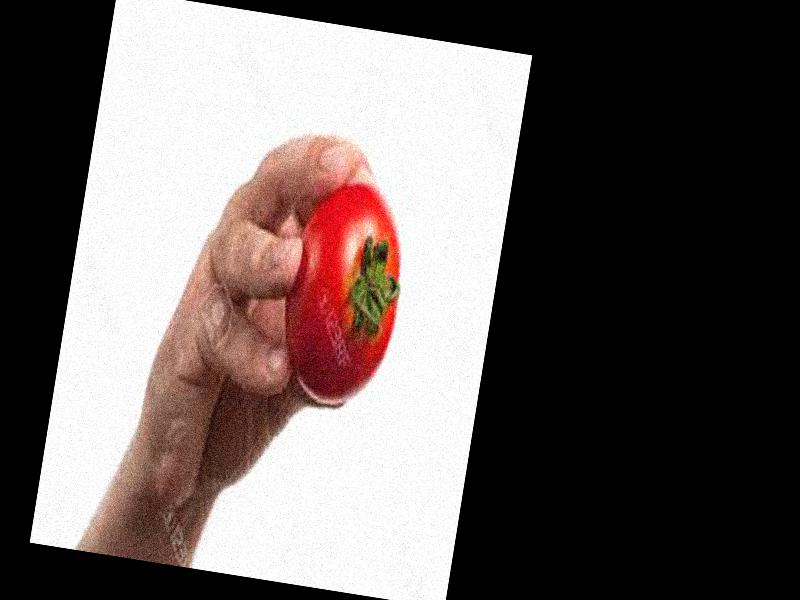Tomato: (273, 175, 416, 409)
